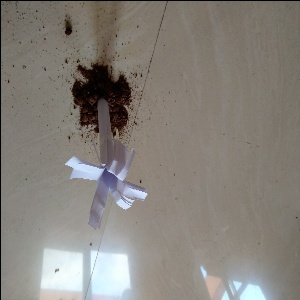weed: (70, 97, 151, 223)
